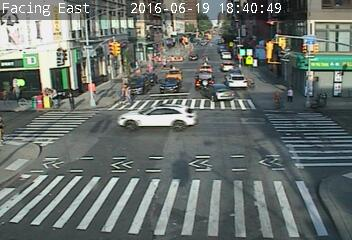neg: (234, 172, 264, 212), (169, 154, 197, 191), (131, 139, 158, 176), (301, 111, 328, 148), (37, 186, 63, 222), (262, 147, 288, 181), (210, 37, 235, 71), (12, 98, 37, 130), (212, 86, 236, 118), (153, 91, 175, 120), (263, 36, 284, 66), (249, 106, 271, 134), (86, 161, 106, 188), (48, 41, 68, 68), (85, 39, 104, 65), (36, 143, 55, 169), (204, 122, 222, 146), (123, 54, 141, 77), (117, 105, 134, 128), (24, 51, 41, 74), (164, 44, 181, 66), (304, 67, 321, 89), (299, 39, 316, 61), (75, 120, 91, 141), (114, 197, 130, 218)
pos: (64, 89, 80, 111), (282, 83, 297, 104)
